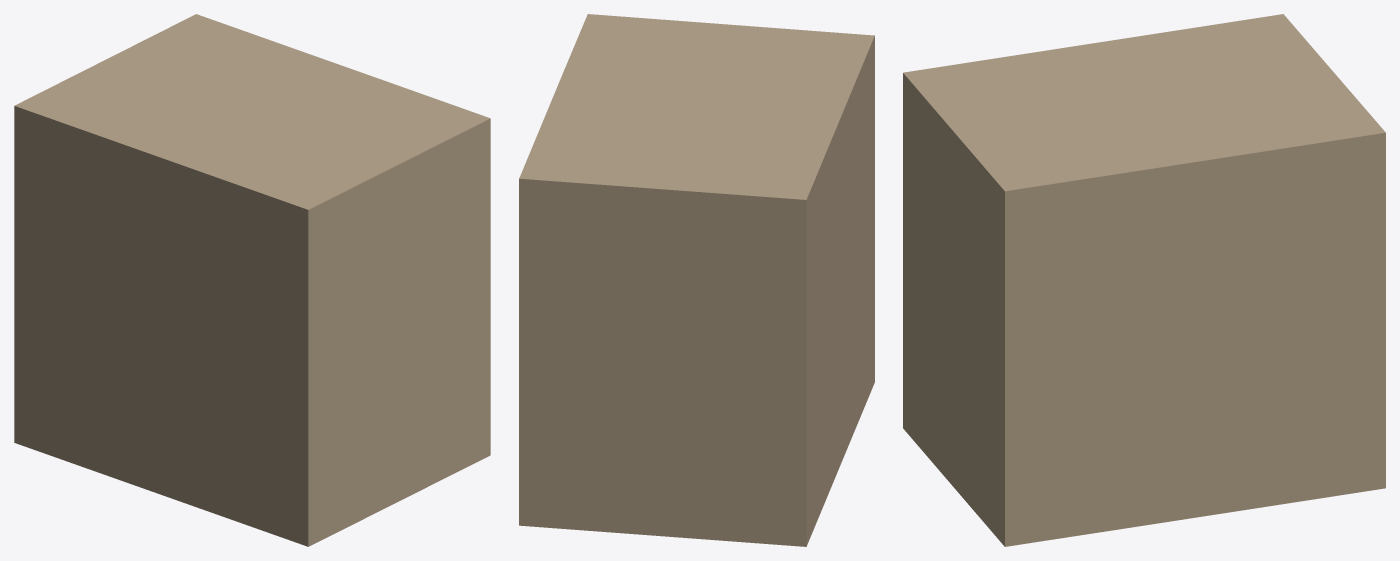
Rendered from bld_107639038.dae.
3 renders of one model, left to right at view 1: azimuth 30°, elevation 25°; view 2: azimuth 150°, elevation 25°; view 3: azimuth 270°, elevation 25°, orthographic. The views are drawn at different scales.
Visible parts, largest first — view 1: bld_107639038; view 2: bld_107639038; view 3: bld_107639038.
Part boxes in pixels (x1=…): bld_107639038: x1=14, y1=14, x2=490, y2=546; bld_107639038: x1=519, y1=14, x2=874, y2=546; bld_107639038: x1=903, y1=14, x2=1385, y2=546.
Size of the model in its own units: 8.56 by 9.85 by 8.
